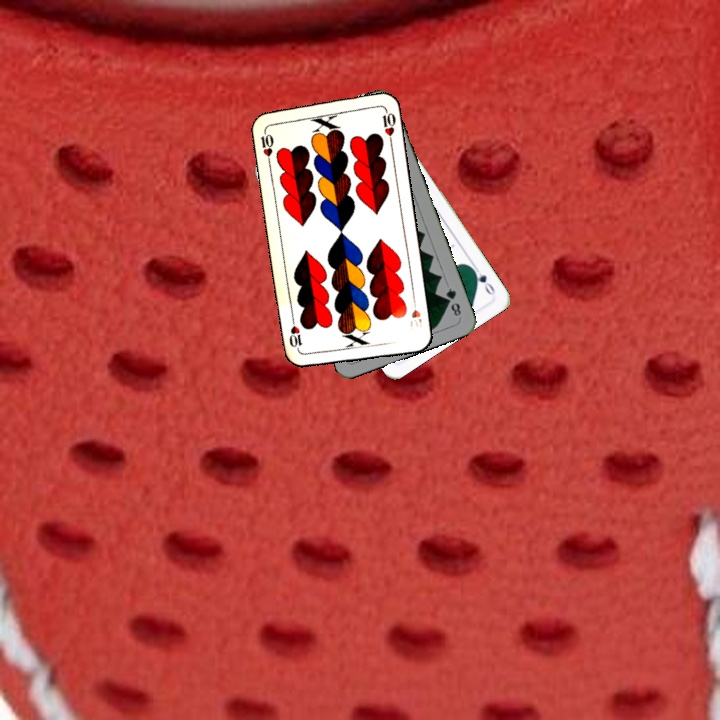G8: (442, 284, 464, 319)
GO: (467, 261, 498, 298)
H10: (257, 125, 276, 166), (406, 294, 425, 331)
